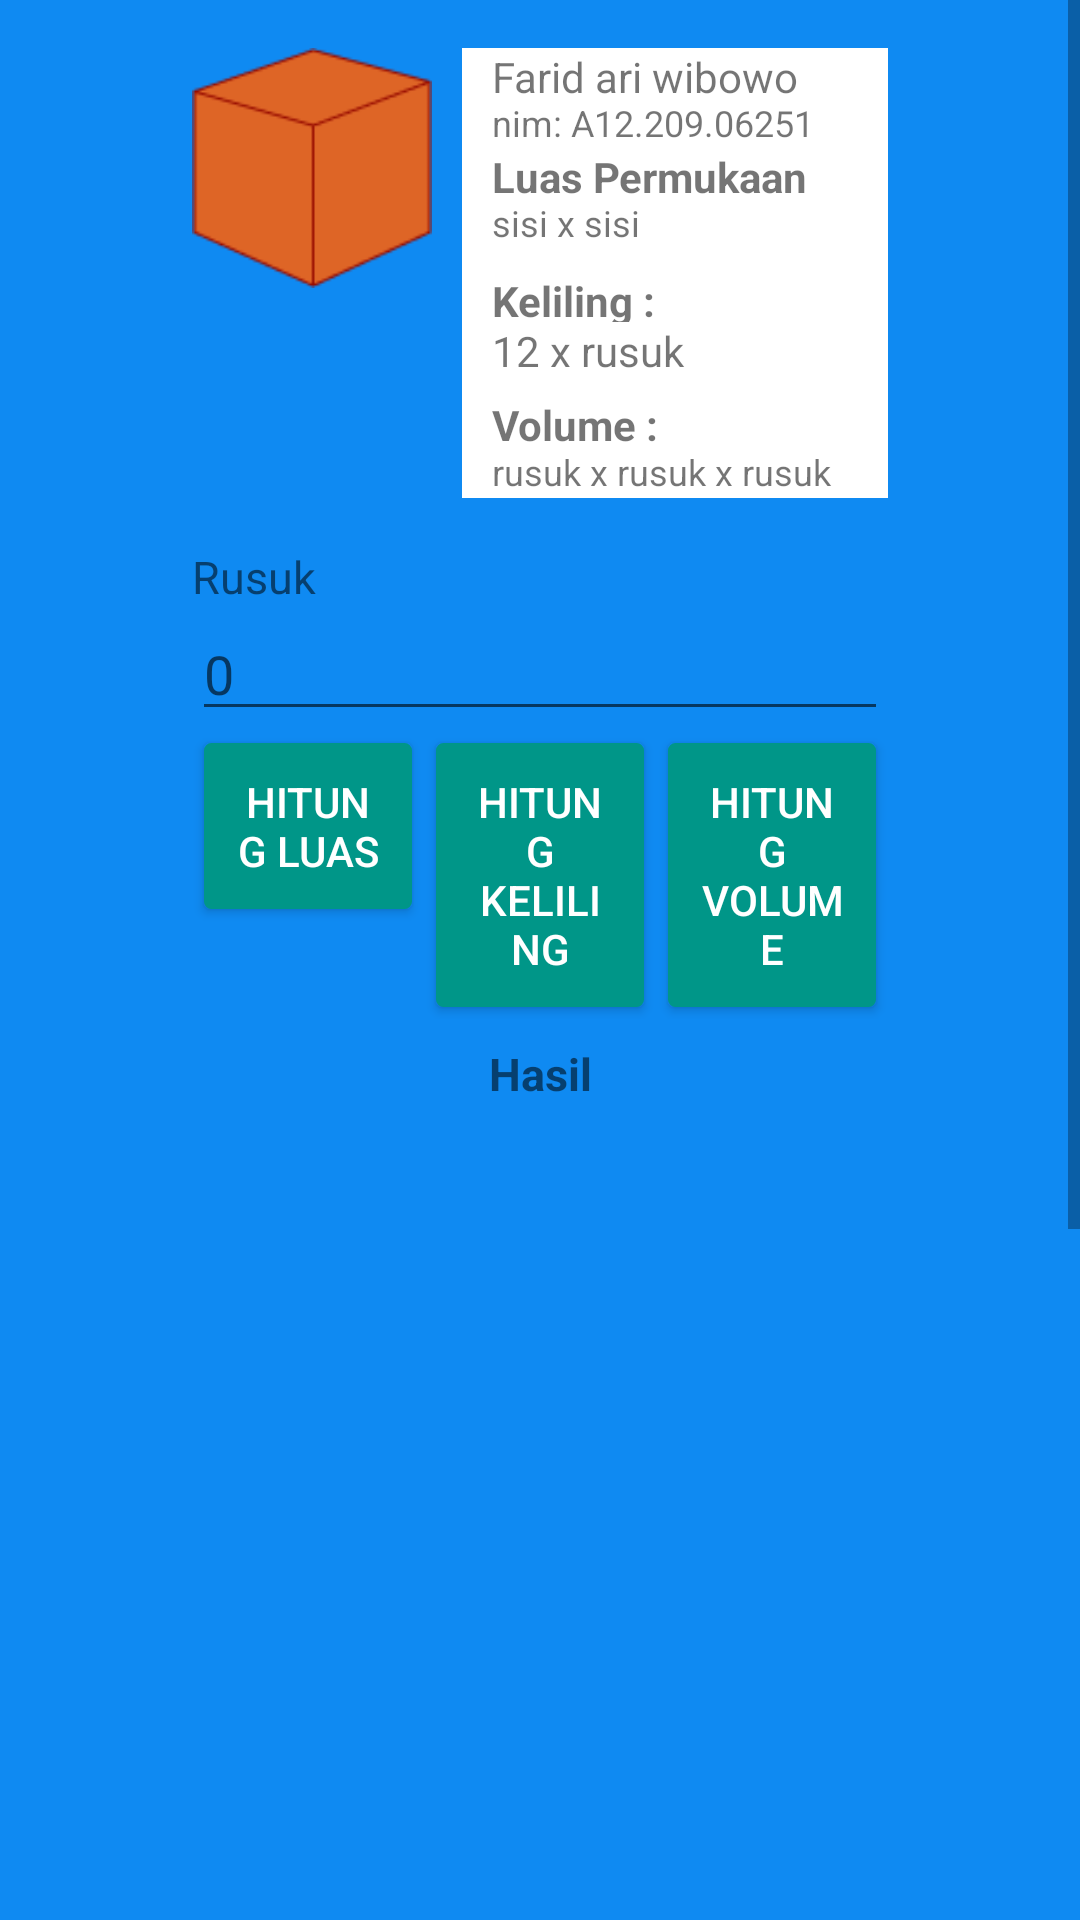

Icon bounding boxes for this 1080px×1920px phone screenshot, format bbox=(x1, y1, x2, y2):
kubus: bbox=(192, 48, 432, 288)
